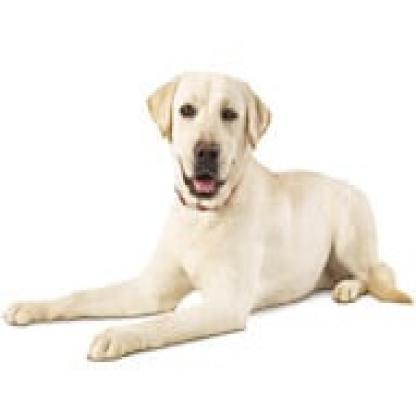Labarador Retriever: (4, 68, 415, 360)
